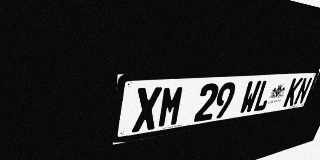2: (194, 83, 220, 122)
9: (212, 82, 237, 119)
K: (283, 78, 303, 107)
L: (252, 79, 275, 112)
M: (157, 85, 186, 129)
N: (293, 77, 313, 105)
W: (238, 80, 262, 115)
X: (132, 86, 162, 133)
